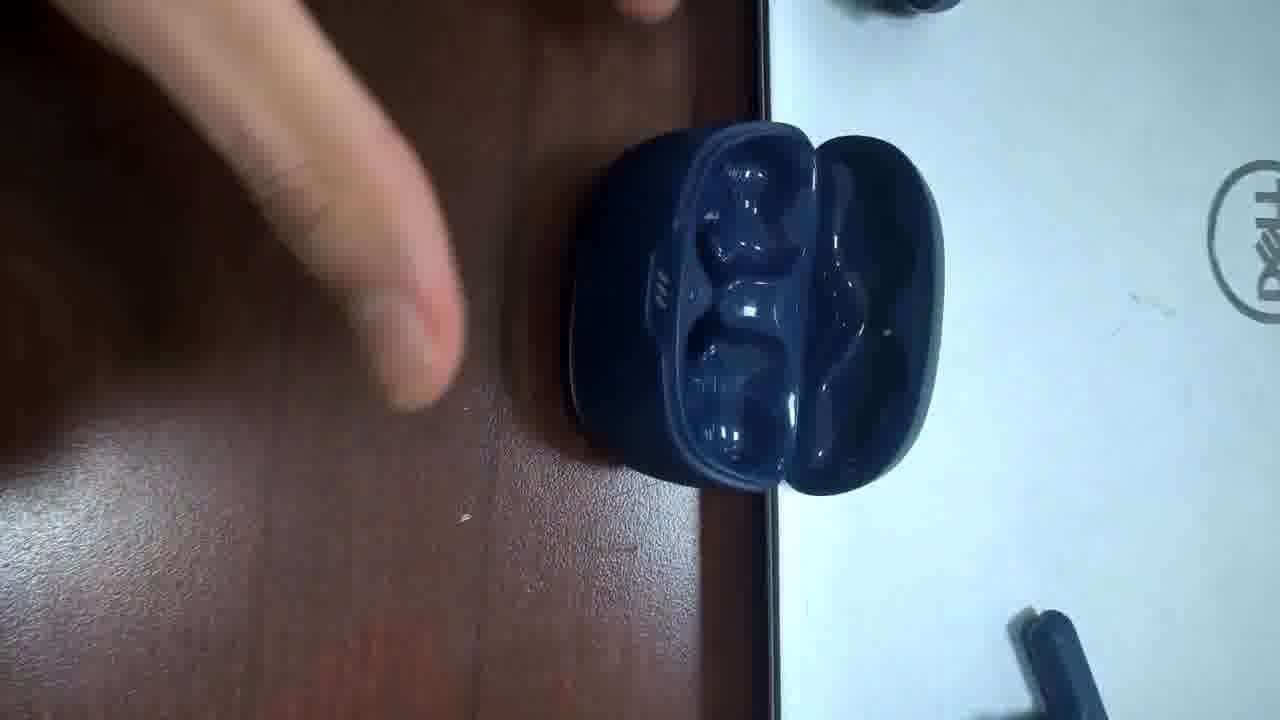Empty_Slot: (681, 312, 797, 484), (695, 137, 813, 283)
